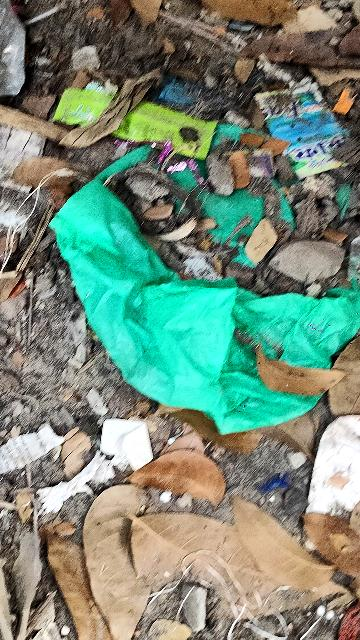polythene: (35, 105, 360, 438)
